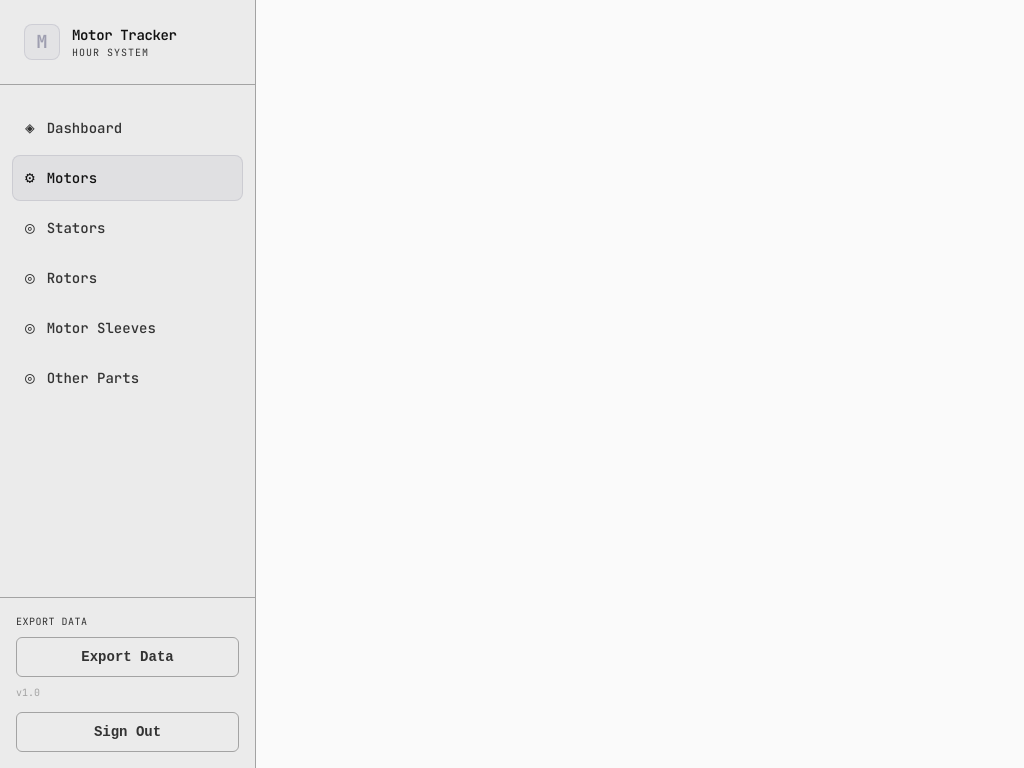
Scenario: Sidebar export modal › opens and closes the export modal with the close button
Click the button "Export Data" at (128, 657), box [16,637,239,677]
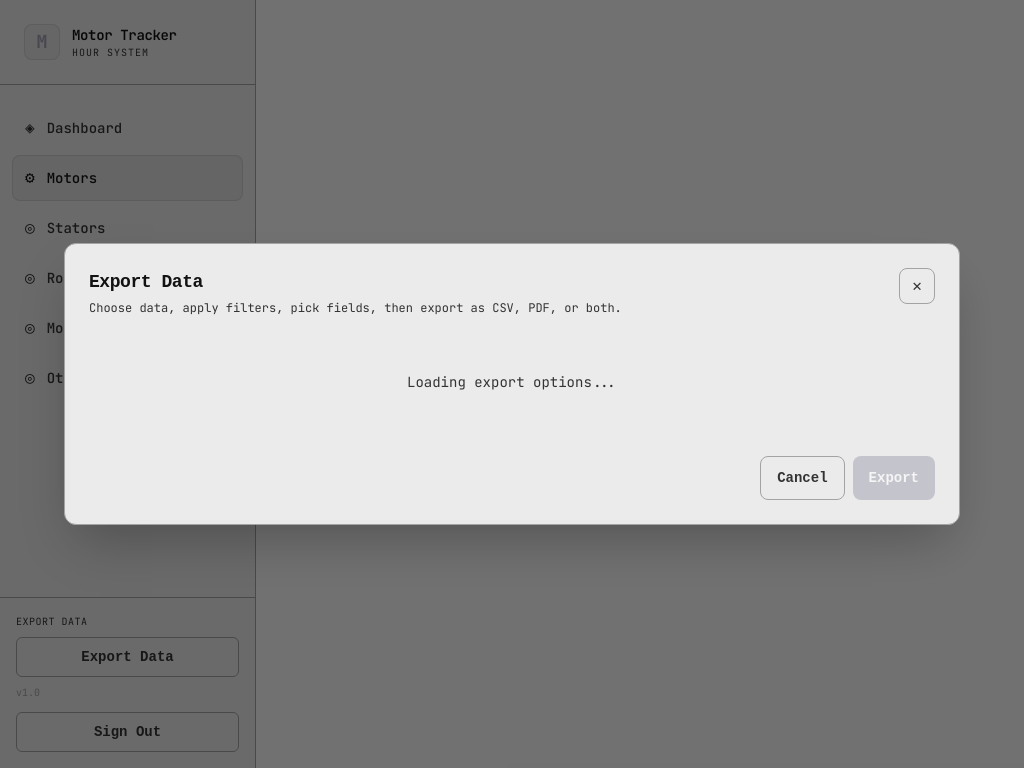
Expected: the dialog is shown, [64,243,960,525]
Click the button named "Close export modal" at (917, 286), box [899,268,935,304]
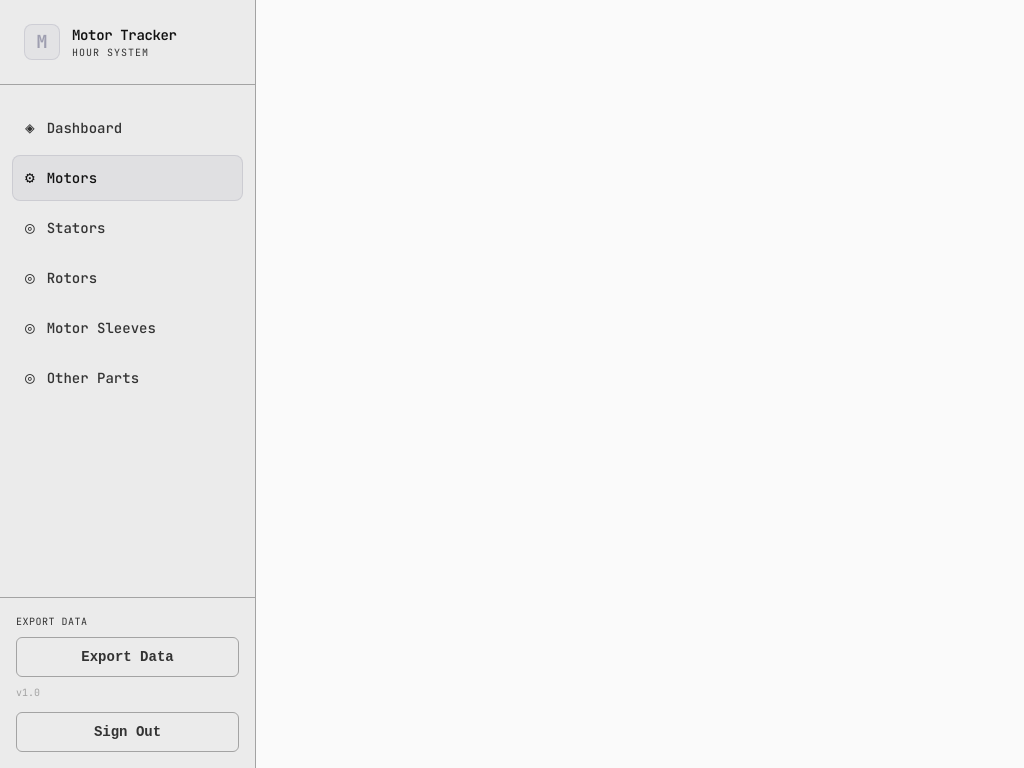
Expected: the dialog is gone
